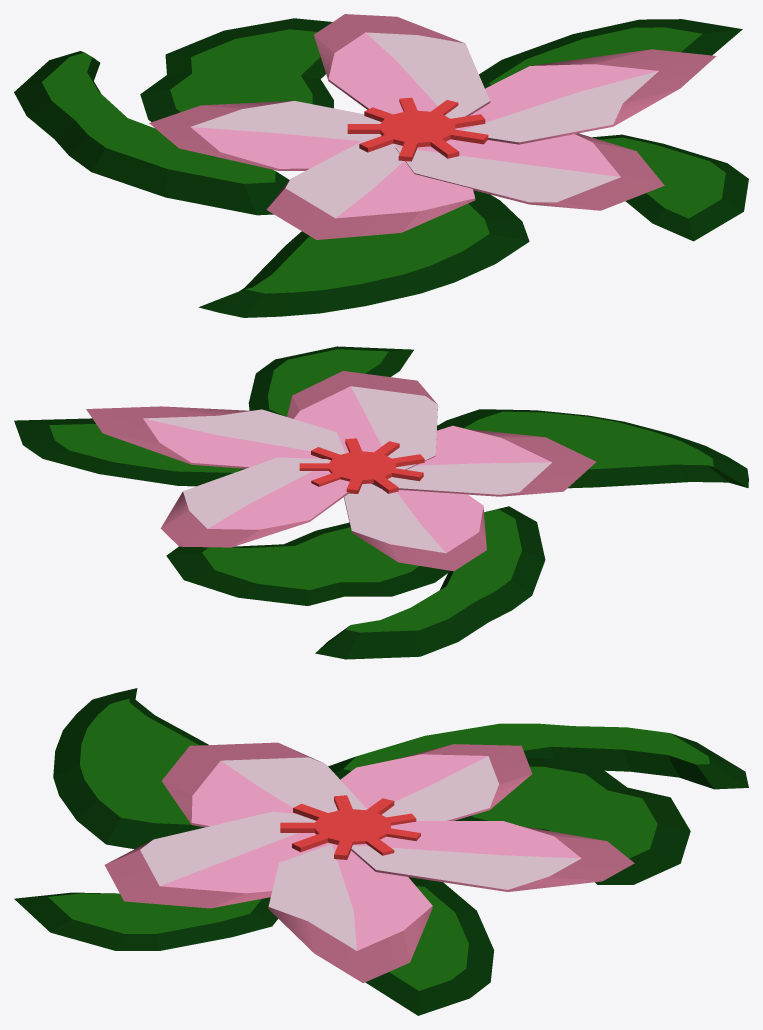
Rendered from Taiwan - Hakka Tung1.FBX.
The picture shows the model from 3 angles, top to bottom: view 1: azimuth 30°, elevation 25°; view 2: azimuth 150°, elevation 25°; view 3: azimuth 270°, elevation 25°; orthographic projection. The views are drawn at different scales.
Visible parts, largest first — view 1: Line006, Line002, Box005, Box004, Line001, Box001, Box003, Box002, Line004, Line003, Cylinder001; view 2: Line002, Line001, Line006, Box005, Box001, Box003, Box004, Box002, Line003, Line004, Cylinder001; view 3: Line006, Box005, Box001, Line001, Box004, Line002, Box003, Box002, Line004, Line003, Cylinder001.
Part boxes in pixels (box(x1,y1,x2,y2)): Line006: box(198, 190, 529, 317); Line002: box(14, 51, 289, 215); Box005: box(455, 49, 716, 144); Box004: box(395, 133, 664, 210); Line001: box(140, 18, 333, 121); Box001: box(314, 14, 490, 118); Box003: box(266, 134, 475, 239); Box002: box(149, 101, 381, 170); Line004: box(592, 134, 748, 241); Line003: box(479, 19, 742, 88); Cylinder001: box(347, 97, 488, 161); Line002: box(315, 506, 545, 659); Line001: box(166, 522, 450, 605); Line006: box(437, 409, 748, 488); Box005: box(86, 406, 345, 468); Box001: box(160, 457, 349, 547); Box003: box(371, 425, 596, 496); Box004: box(287, 371, 437, 469); Box002: box(344, 483, 486, 571); Line003: box(14, 418, 244, 486); Line004: box(248, 346, 413, 416); Cylinder001: box(299, 438, 424, 493); Line006: box(53, 688, 208, 849); Box005: box(268, 844, 432, 982); Box001: box(351, 821, 634, 891); Line001: box(454, 758, 690, 884); Box004: box(104, 811, 337, 908); Line002: box(328, 723, 748, 789); Box003: box(162, 742, 366, 827); Box002: box(340, 744, 532, 820); Line004: box(14, 892, 278, 950); Line003: box(365, 877, 494, 1015); Cylinder001: box(280, 795, 420, 859).
Size of the model in its own units: 5161 by 4740 by 234.
